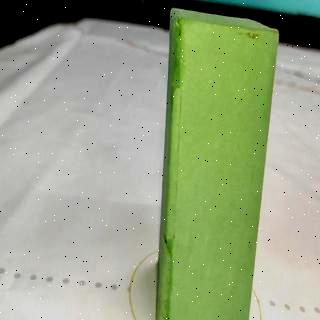greenbox: (164, 7, 278, 320)
